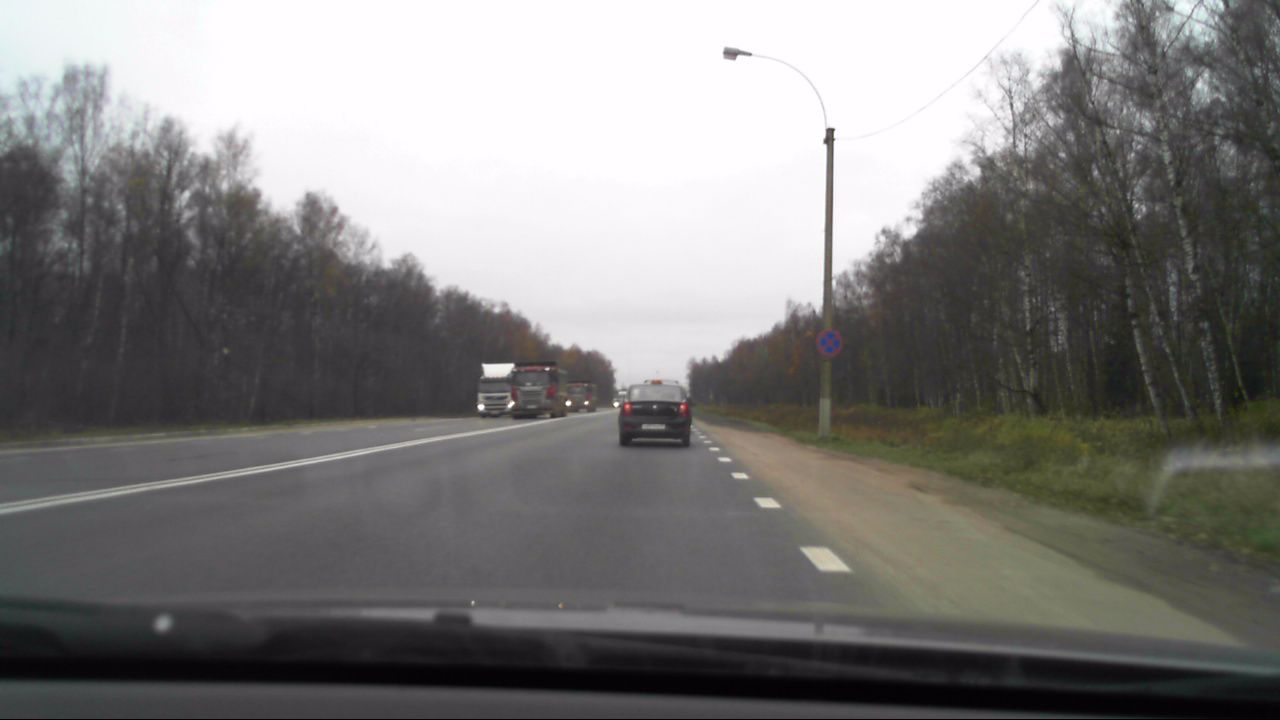No Parking: (817, 328, 844, 355)
